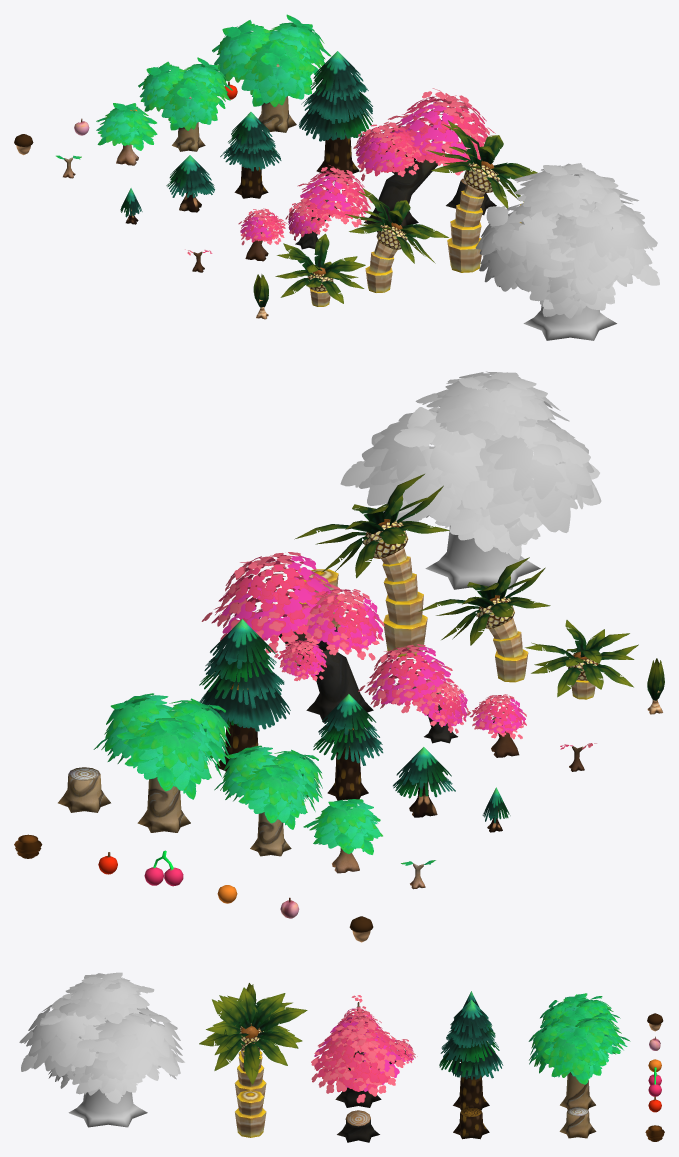
File: trees.obj
3 views of the same model, one above another, from view 1: azimuth 30°, elevation 25°; view 2: azimuth 150°, elevation 25°; view 3: azimuth 270°, elevation 25° (orthographic). The views are drawn at different scales.
Parts seen in each view (by area): view 1: Full_Grow.004_Cylinder.040_Oak, MidGrow.005_Cylinder.033_Cherrytree, Full_Grow.001_Cylinder.001_BaseTree, Cylinder.002_Cylinder.065_Palm, Full_Grow.003_Cylinder.017_Pine, MidGrow.001_Cylinder.003_BaseTree, MidGrow.004_Cylinder.030_Cherrytree, Cylinder.001_Cylinder.064_Palm, Cylinder_Cylinder.051_Palm, MidGrow.003_Cylinder.018_Pine, sprout.001_Cylinder.008_BaseTree, sprout.003_Cylinder.019_Pine (+1 smaller); view 2: Full_Grow.004_Cylinder.040_Oak, MidGrow.005_Cylinder.033_Cherrytree, Full_Grow.001_Cylinder.001_BaseTree, Cylinder.002_Cylinder.065_Palm, Full_Grow.003_Cylinder.017_Pine, MidGrow.001_Cylinder.003_BaseTree, MidGrow.004_Cylinder.030_Cherrytree, Cylinder.001_Cylinder.064_Palm, MidGrow.003_Cylinder.018_Pine, Cylinder_Cylinder.051_Palm, sprout.001_Cylinder.008_BaseTree, sprout.003_Cylinder.019_Pine (+2 smaller); view 3: Full_Grow.004_Cylinder.040_Oak, MidGrow.005_Cylinder.033_Cherrytree, Cylinder.002_Cylinder.065_Palm, Full_Grow.001_Cylinder.001_BaseTree, Full_Grow.003_Cylinder.017_Pine, MidGrow.001_Cylinder.003_BaseTree, Cylinder.003_Cylinder.066_Palm, MidGrow.006_Cylinder.034_Cherrytree, Cut_Cylinder.006_BaseTree, Cut.001_Cylinder.015_Pine, Cylinder.001_Cylinder.064_Palm, CHERRY_Sphere.017_FRUITS.
Part boxes in pixels (bbox=[...]): Full_Grow.004_Cylinder.040_Oak: bbox=[475, 163, 659, 340]; MidGrow.005_Cylinder.033_Cherrytree: bbox=[353, 88, 495, 232]; Full_Grow.001_Cylinder.001_BaseTree: bbox=[212, 14, 331, 132]; Cylinder.002_Cylinder.065_Palm: bbox=[426, 120, 537, 272]; Full_Grow.003_Cylinder.017_Pine: bbox=[298, 51, 372, 178]; MidGrow.001_Cylinder.003_BaseTree: bbox=[138, 57, 232, 151]; MidGrow.004_Cylinder.030_Cherrytree: bbox=[285, 165, 372, 249]; Cylinder.001_Cylinder.064_Palm: bbox=[345, 188, 448, 292]; Cylinder_Cylinder.051_Palm: bbox=[275, 233, 365, 306]; MidGrow.003_Cylinder.018_Pine: bbox=[220, 112, 281, 198]; sprout.001_Cylinder.008_BaseTree: bbox=[96, 103, 157, 165]; sprout.003_Cylinder.019_Pine: bbox=[166, 155, 214, 212]; Full_Grow.004_Cylinder.040_Oak: bbox=[340, 371, 601, 589]; MidGrow.005_Cylinder.033_Cherrytree: bbox=[201, 552, 384, 722]; Full_Grow.001_Cylinder.001_BaseTree: bbox=[93, 693, 230, 832]; Cylinder.002_Cylinder.065_Palm: bbox=[294, 474, 449, 656]; Full_Grow.003_Cylinder.017_Pine: bbox=[199, 619, 290, 771]; MidGrow.001_Cylinder.003_BaseTree: bbox=[214, 745, 322, 856]; MidGrow.004_Cylinder.030_Cherrytree: bbox=[358, 644, 468, 743]; Cylinder.001_Cylinder.064_Palm: bbox=[418, 557, 550, 682]; MidGrow.003_Cylinder.018_Pine: bbox=[313, 694, 383, 800]; Cylinder_Cylinder.051_Palm: bbox=[525, 620, 638, 699]; sprout.001_Cylinder.008_BaseTree: bbox=[303, 799, 382, 873]; sprout.003_Cylinder.019_Pine: bbox=[393, 747, 455, 817]; Full_Grow.004_Cylinder.040_Oak: bbox=[19, 972, 184, 1127]; MidGrow.005_Cylinder.033_Cherrytree: bbox=[311, 1011, 417, 1107]; Cylinder.002_Cylinder.065_Palm: bbox=[199, 987, 307, 1103]; Full_Grow.001_Cylinder.001_BaseTree: bbox=[528, 1013, 630, 1109]; Full_Grow.003_Cylinder.017_Pine: bbox=[439, 1003, 503, 1110]; MidGrow.001_Cylinder.003_BaseTree: bbox=[540, 996, 620, 1028]; Cylinder.003_Cylinder.066_Palm: bbox=[235, 1090, 266, 1137]; MidGrow.006_Cylinder.034_Cherrytree: bbox=[337, 1110, 379, 1142]; Cut_Cylinder.006_BaseTree: bbox=[559, 1107, 596, 1138]; Cut.001_Cylinder.015_Pine: bbox=[453, 1107, 489, 1139]; Cylinder.001_Cylinder.064_Palm: bbox=[207, 996, 296, 1055]; CHERRY_Sphere.017_FRUITS: bbox=[648, 1067, 661, 1096].
Size of the model in its own units: 27.32 by 13.55 by 55.51.
